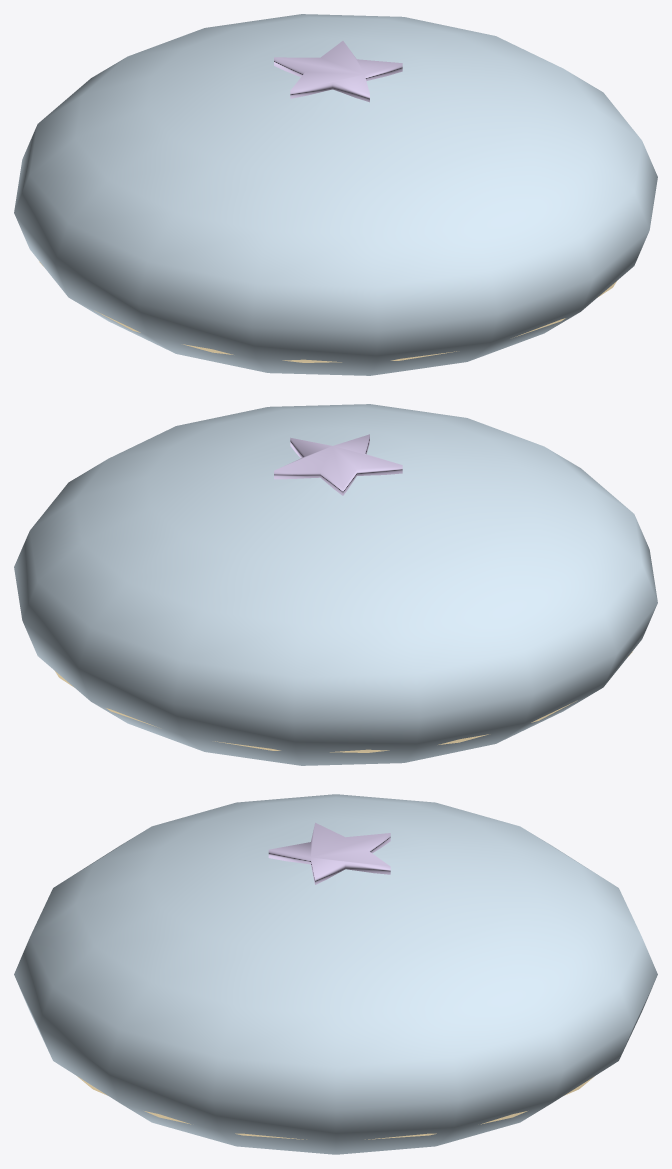
Rendered from ottoman.glb.
3 renders of one model, top to bottom at view 1: azimuth 30°, elevation 25°; view 2: azimuth 150°, elevation 25°; view 3: azimuth 270°, elevation 25°, orthographic.
Visible parts, largest first — view 1: ottoman body, top star, gold band; view 2: ottoman body, top star, gold band; view 3: ottoman body, top star, gold band.
Boxes of the visible parts, x1,y1,x2,y2 form: ottoman body: (14,14,657,375); top star: (274,41,402,102); gold band: (39,261,617,362); ottoman body: (14,404,657,765); top star: (274,434,402,495); gold band: (54,651,632,752); ottoman body: (14,794,657,1154); top star: (268,822,390,884); gold band: (77,1076,594,1139).
Bounding box in the file's own units: 1.05 × 0.4395 × 1.05.
